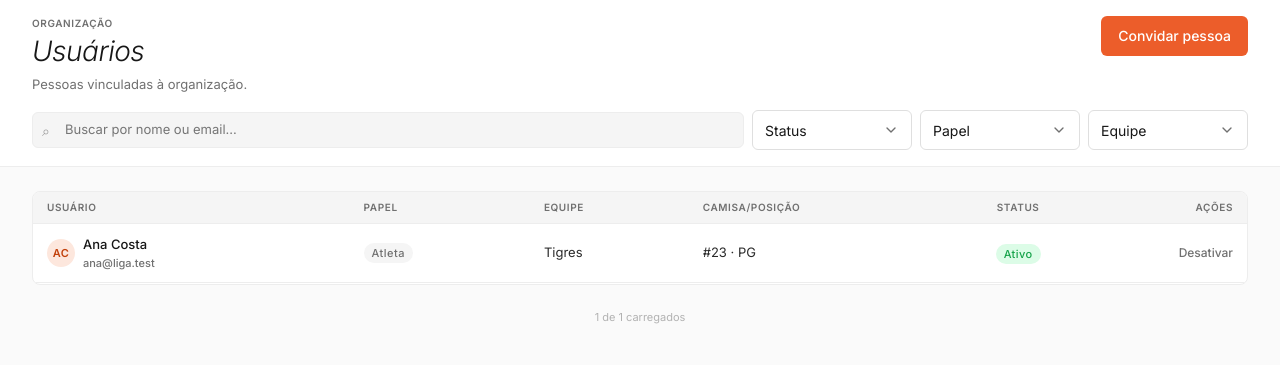
Test: OrgUsersPage › translates the role filter options into the contractual labels
The width and height of the screenshot is (1280, 365).
Expected: the heading "Usuários" is shown, x1=32 y1=34 x2=144 y2=68
Click the button with aria-label "Filtrar usuários por papel" at (1000, 130), box x1=920 y1=110 x2=1080 y2=150
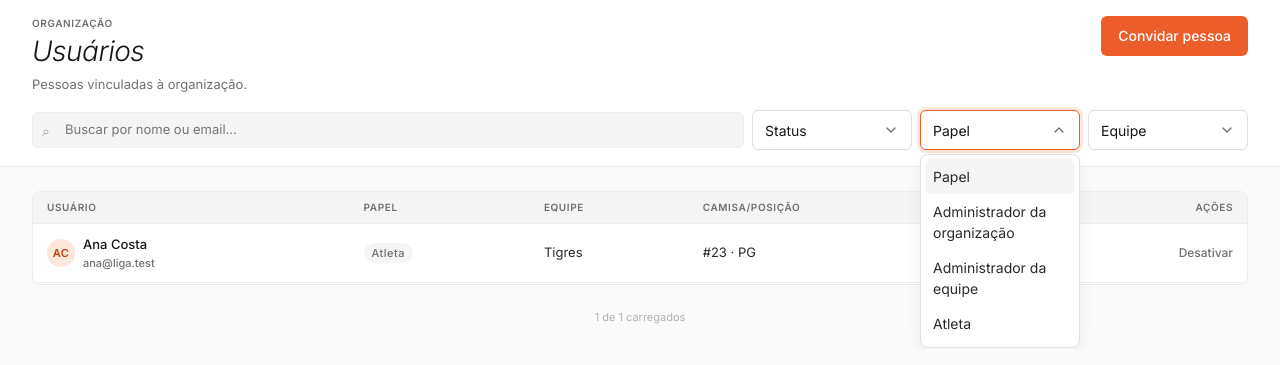
Result: the option "Administrador da equipe" is shown at x1=933 y1=259 x2=1046 y2=297
